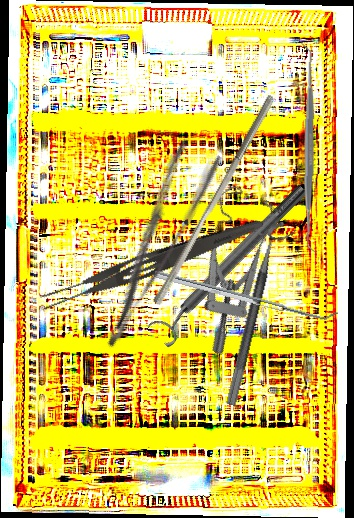Dressing Forceps: (71, 134, 227, 353), (35, 207, 267, 317)
Fixation Ring: (145, 177, 317, 350), (224, 219, 298, 410)
Pusher: (151, 89, 277, 311)
Spatula Surgical: (153, 263, 339, 326), (295, 41, 322, 254)
Speculum: (144, 176, 309, 357)
